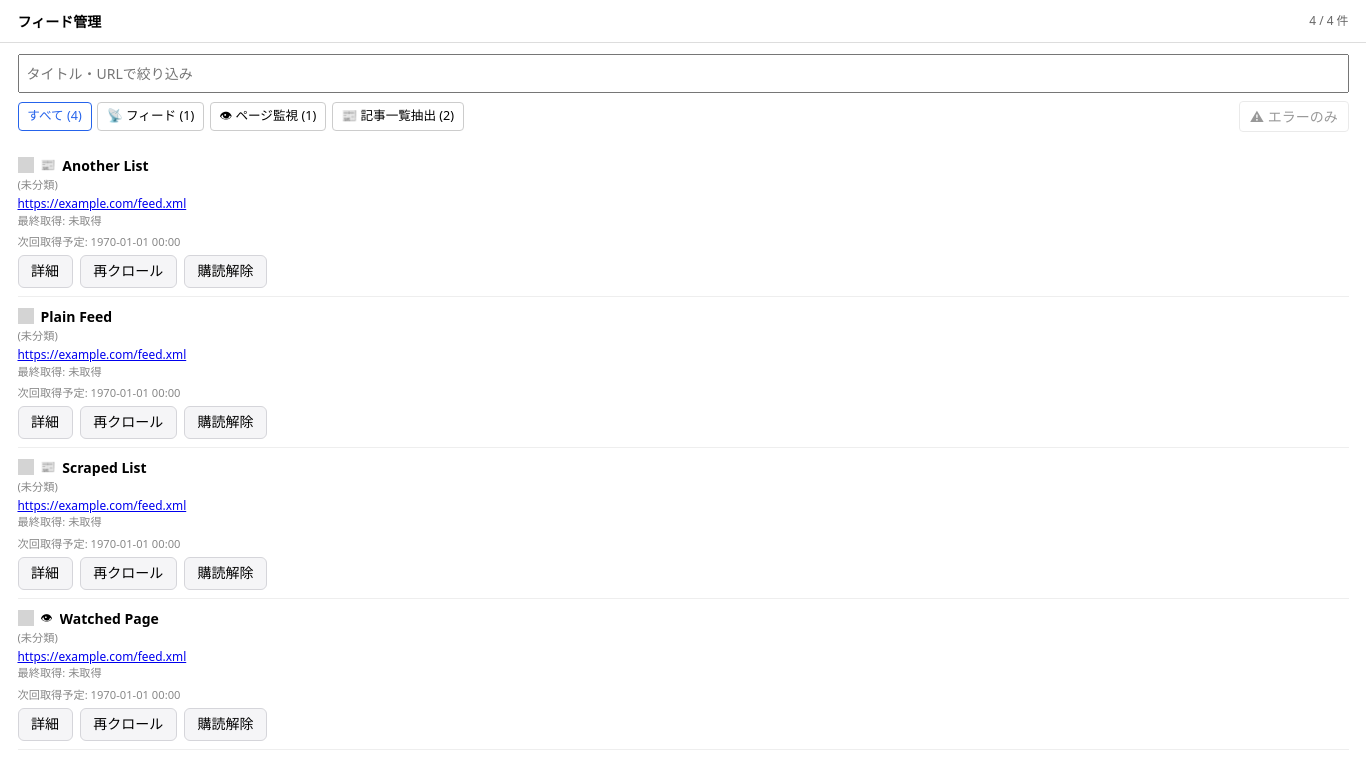
Test: FeedManagerPane kind filter › combines the kind filter with the text query
Click the button "📰 記事一覧抽出 (2)".
click(398, 117)  # box [332, 102, 464, 131]
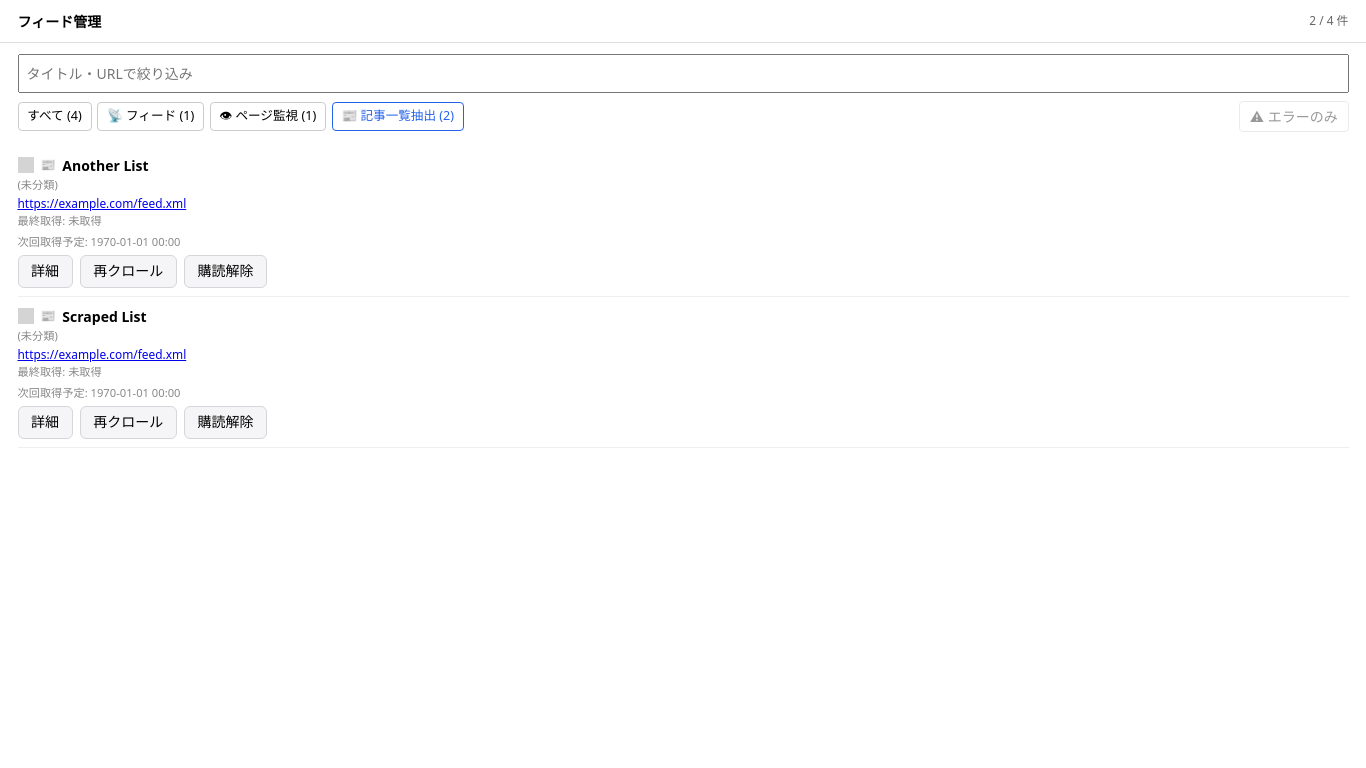
Type "another" into the field with placeholder "タイトル・URLで絞り込み".
click(683, 73); type("another")  # box [18, 54, 1348, 92]
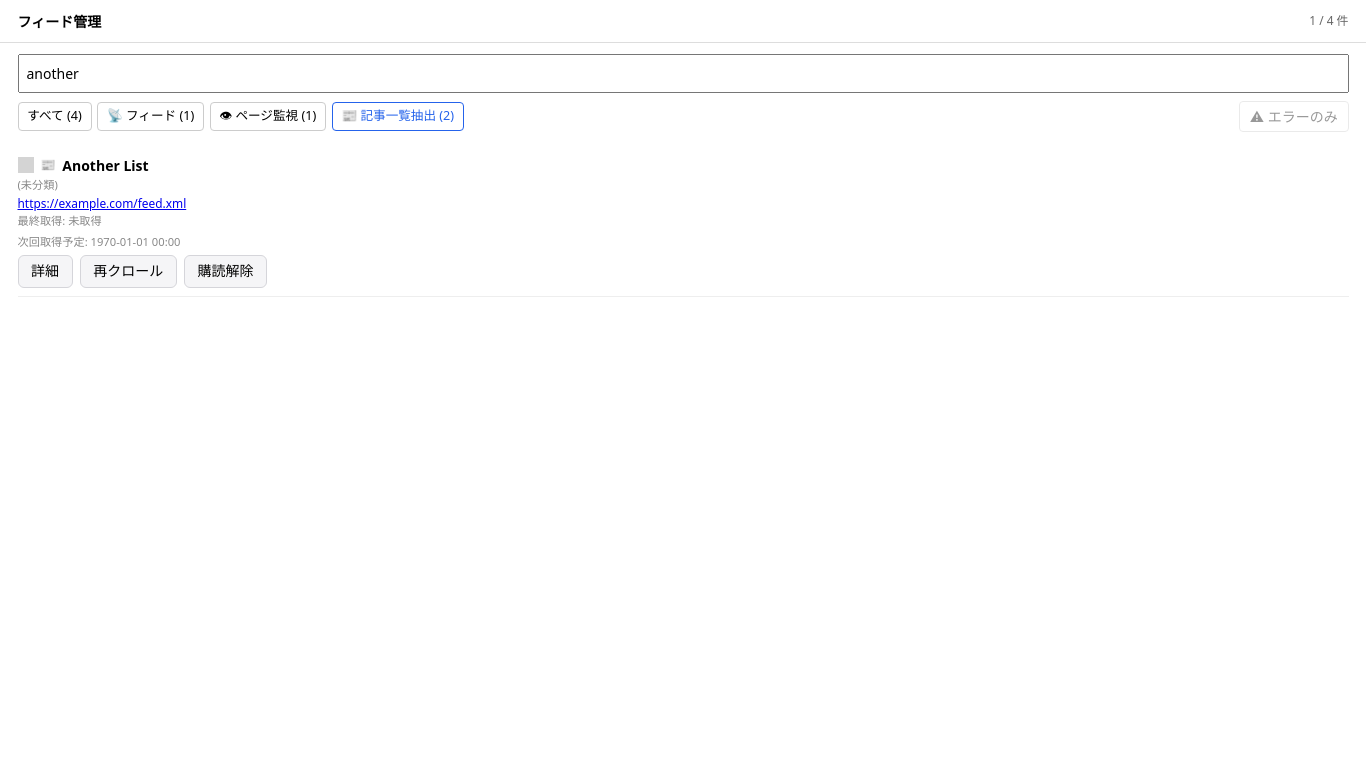
Check: the text "Another List" is shown, box [62, 156, 149, 175]
Check: the number of list items is 1, box [18, 146, 1348, 297]
